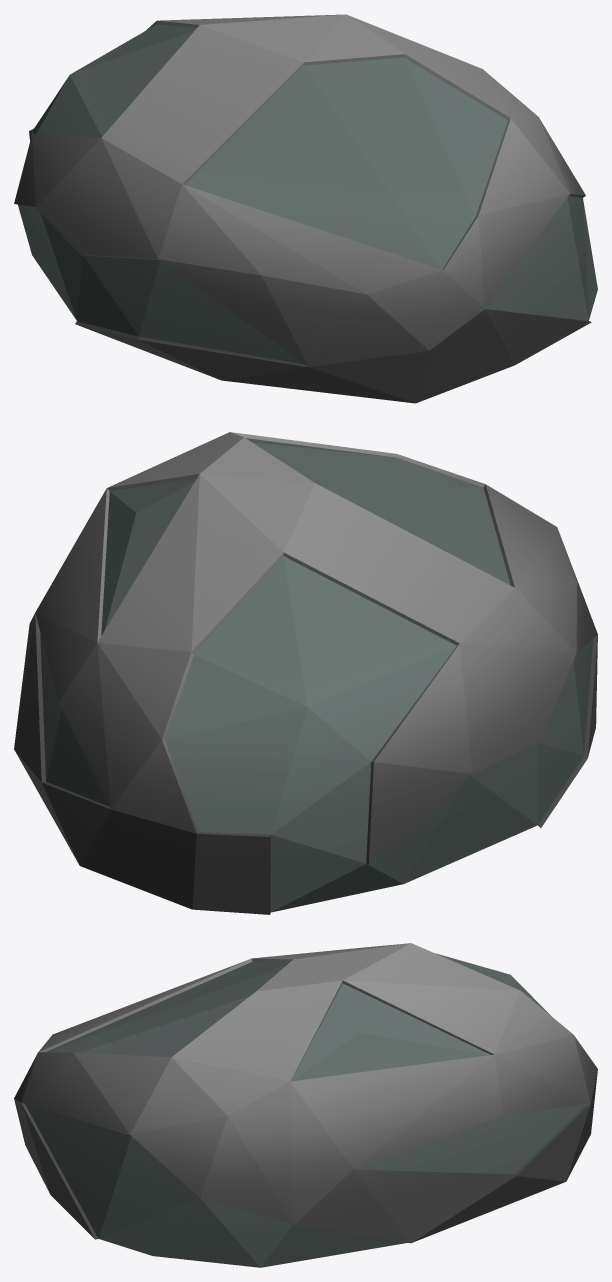
File: pack01_foliage_24.fbx
3 views of the same model, one above another, from view 1: azimuth 30°, elevation 25°; view 2: azimuth 150°, elevation 25°; view 3: azimuth 270°, elevation 25° (orthographic). The views are drawn at different scales.
Visible parts, largest first — view 1: Stone_average_01_mossy; view 2: Stone_average_01_mossy; view 3: Stone_average_01_mossy.
Part boxes in pixels (x1=…): Stone_average_01_mossy: x1=14, y1=14, x2=597, y2=403; Stone_average_01_mossy: x1=14, y1=432, x2=597, y2=914; Stone_average_01_mossy: x1=14, y1=943, x2=597, y2=1267.
Bounding box in the file's own units: 185 × 92.14 × 229.
1 material, 1 textured.
